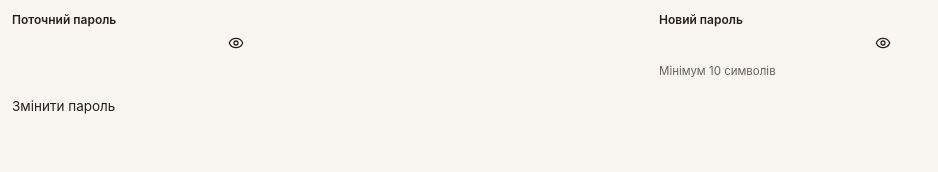
Scenario: ChangePasswordForm › a new password under ten characters is refused before anything is sent
In the password field labelled "Поточний пароль": (120, 46) [12,35,228,57], type "old-secret-1"
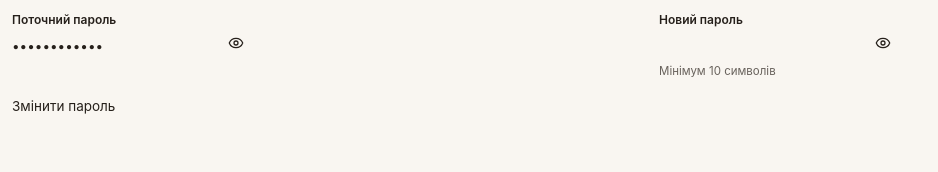
In the password field labelled "Новий пароль": (767, 46) [659,35,875,57], type "short"
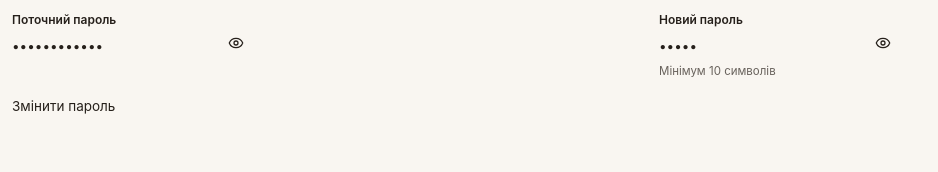
Click the button "Змінити пароль": (64, 106) [12,96,115,117]
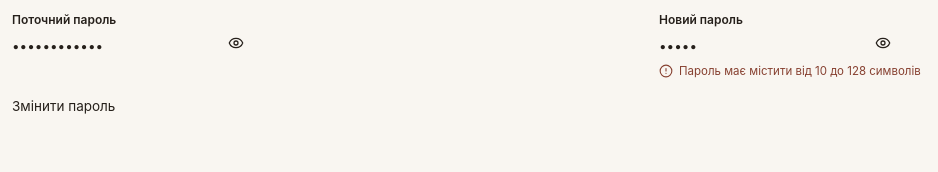
Now the text "Пароль має містити від 10 до 128 символів" is shown, box [679,63,921,80]
